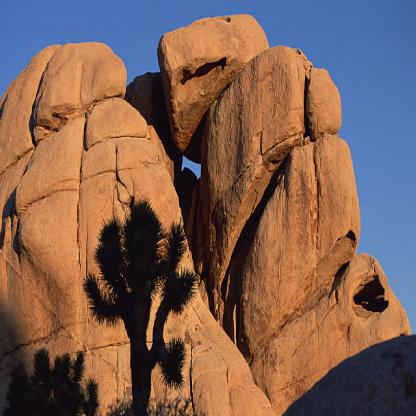Sedimentary_Sandstone: (1, 89, 188, 415), (204, 41, 347, 312), (232, 130, 361, 367), (0, 111, 88, 343), (162, 11, 271, 148), (30, 41, 123, 137)
